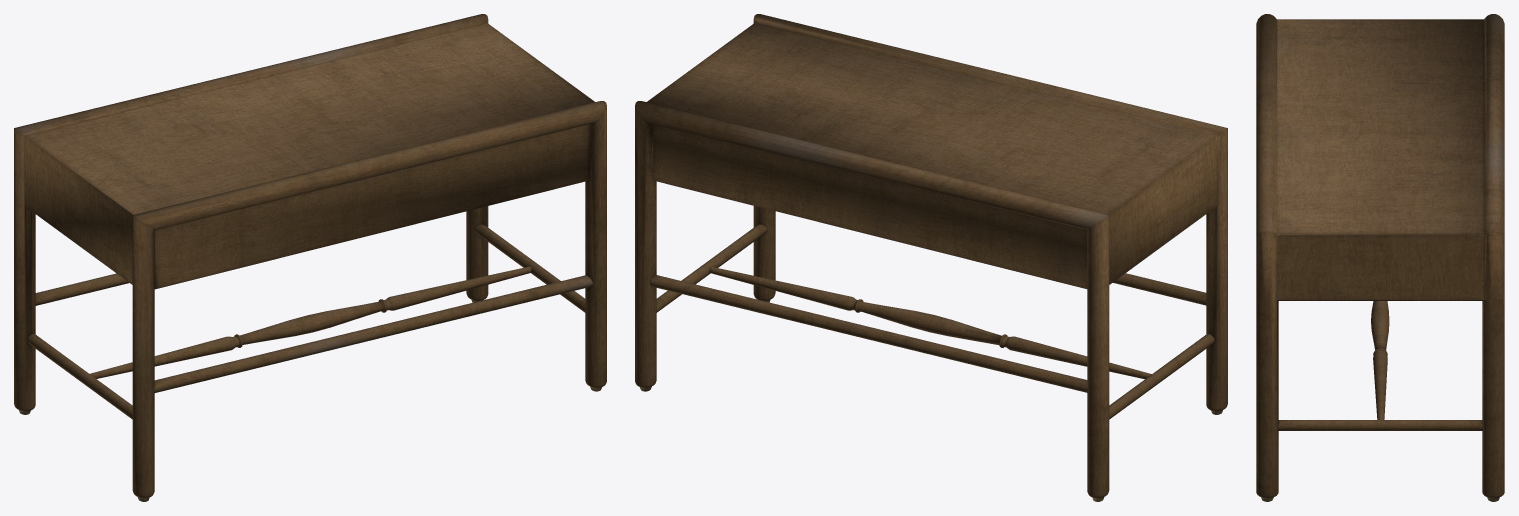
3 views of the same model, side by side, from view 1: azimuth 30°, elevation 25°; view 2: azimuth 150°, elevation 25°; view 3: azimuth 270°, elevation 25° (orthographic). The views are drawn at different scales.
Parts seen in each view (by area): view 1: small_wooden_table_01; view 2: small_wooden_table_01; view 3: small_wooden_table_01.
Boxes of the visible parts, x1,y1,x2,y2 form: small_wooden_table_01: [14, 14, 606, 501]; small_wooden_table_01: [635, 14, 1227, 501]; small_wooden_table_01: [1256, 14, 1504, 501].
Size of the model in its own units: 0.9162 by 0.5331 by 0.44.
1 material, 1 textured.
